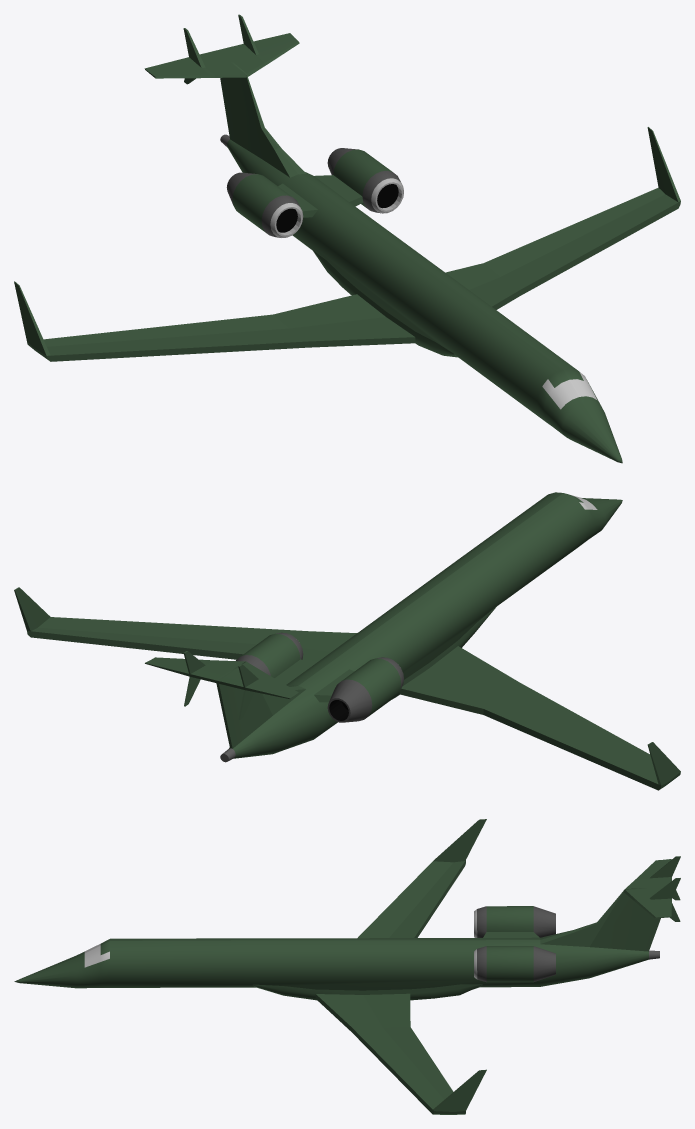
3 views of the same model, one above another, from view 1: azimuth 30°, elevation 25°; view 2: azimuth 150°, elevation 25°; view 3: azimuth 270°, elevation 25° (orthographic). The views are drawn at different scales.
Visible parts, largest first — view 1: pCylinder10; view 2: pCylinder10; view 3: pCylinder10.
Part boxes in pixels (<box>): pCylinder10: <box>14,14,680,463</box>; pCylinder10: <box>14,492,680,790</box>; pCylinder10: <box>14,819,680,1114</box>.
Size of the model in its own units: 24 by 5.69 by 26.94.
